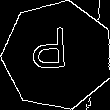P_S: (38, 29, 77, 81)
